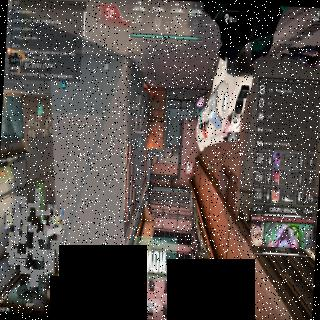ENEMY-BODY: (156, 156, 160, 165)
ENEMY-HEAD: (157, 162, 158, 164)
